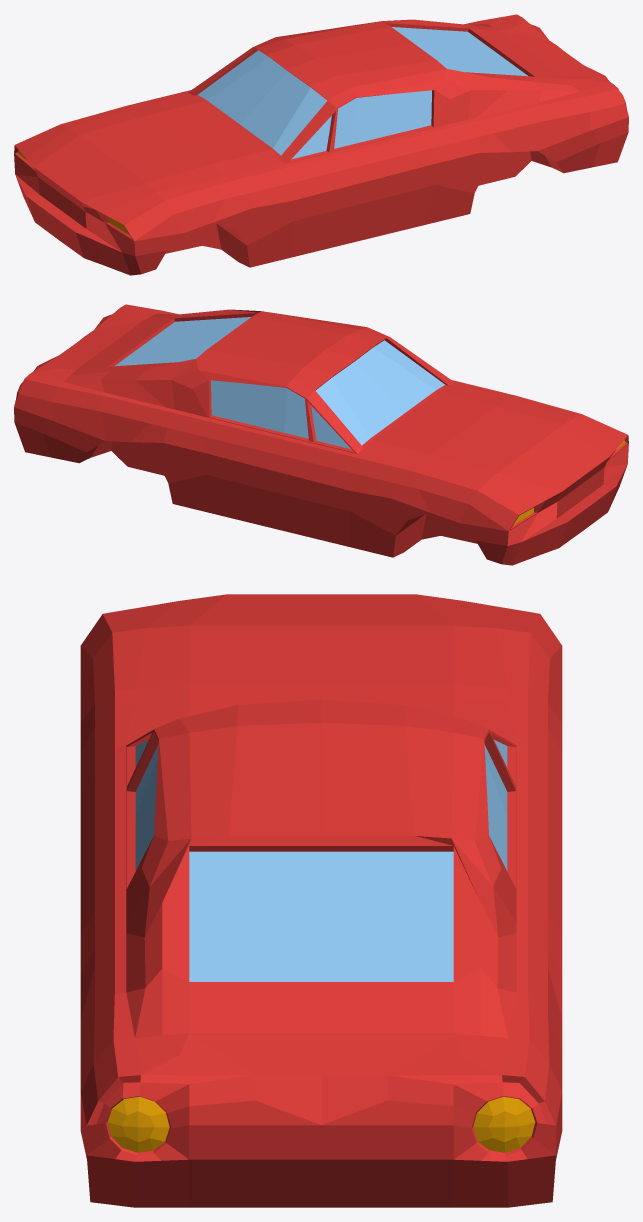
The model's file is car.fbx.
3 views of the same model, one above another, from view 1: azimuth 30°, elevation 25°; view 2: azimuth 150°, elevation 25°; view 3: azimuth 270°, elevation 25° (orthographic). The views are drawn at different scales.
Parts seen in each view (by area): view 1: Car_SmoothMaterials; view 2: Car_SmoothMaterials; view 3: Car_SmoothMaterials.
Boxes of the visible parts, left/top/right/bottom form: Car_SmoothMaterials: left=14, top=14, right=628, bottom=275; Car_SmoothMaterials: left=14, top=304, right=628, bottom=565; Car_SmoothMaterials: left=80, top=594, right=562, bottom=1207.
Bounding box in the file's own units: 4.74 × 1.19 × 1.87.
